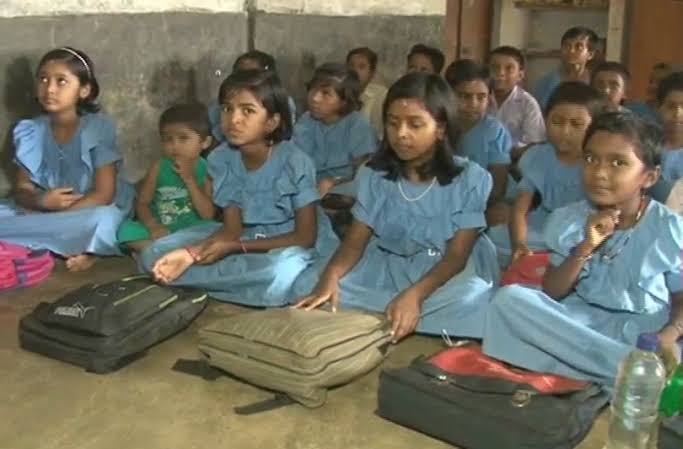student: (580, 106, 665, 210), (207, 68, 296, 151), (383, 70, 456, 171), (24, 47, 108, 122), (149, 104, 220, 168), (537, 81, 596, 151), (439, 60, 493, 126), (298, 69, 360, 122), (477, 43, 529, 93), (590, 58, 633, 111), (562, 25, 605, 73), (657, 72, 683, 128), (346, 51, 380, 85)
